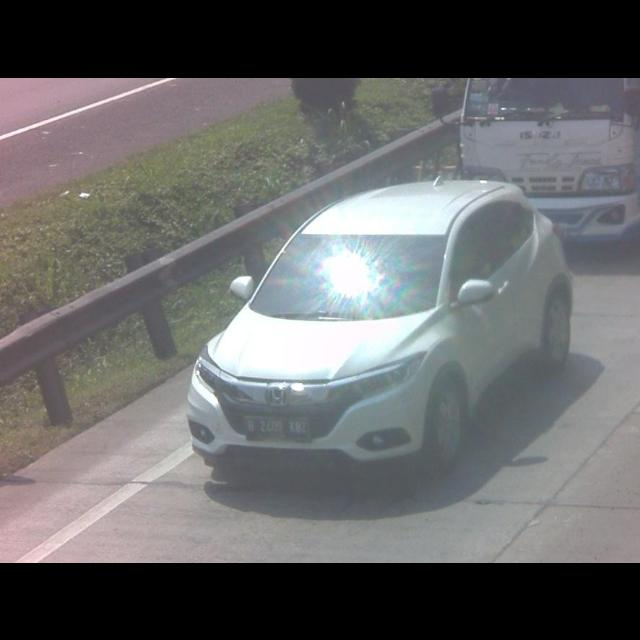plate: (244, 414, 312, 441)
